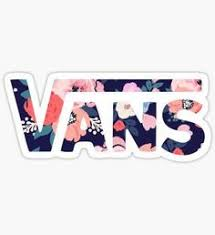vans: (10, 78, 205, 156)
